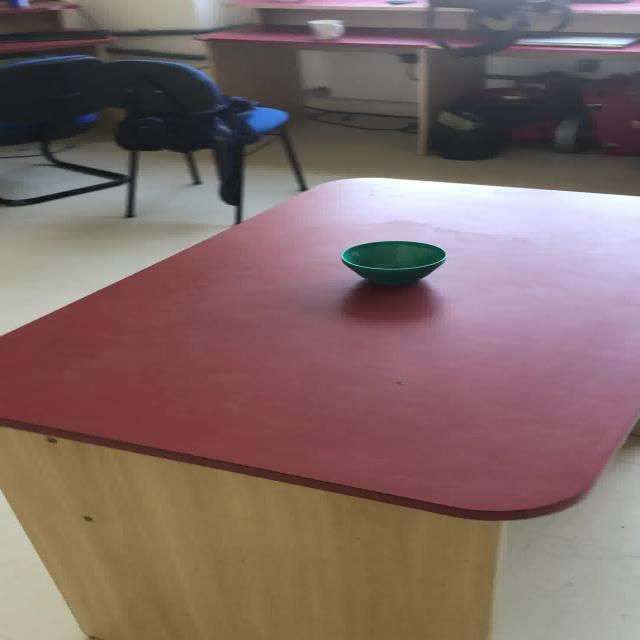bowl: (339, 240, 446, 285), (304, 18, 345, 39)
